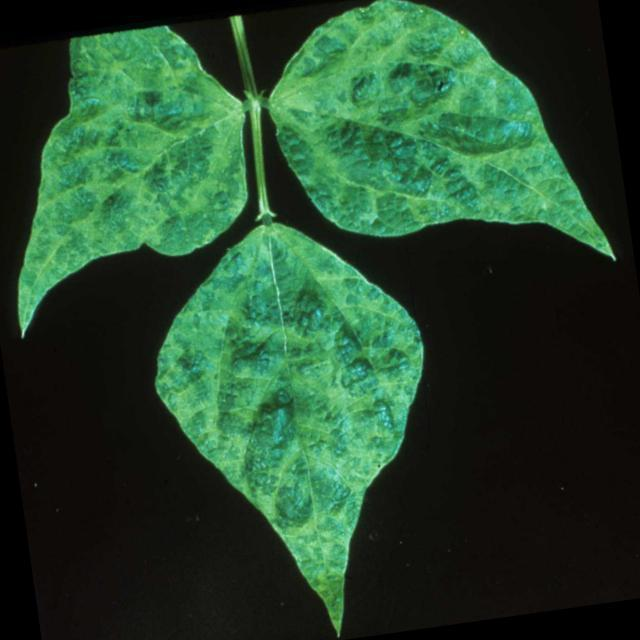Mosaic Virus: (157, 222, 466, 640), (264, 0, 610, 306), (0, 25, 269, 313)
